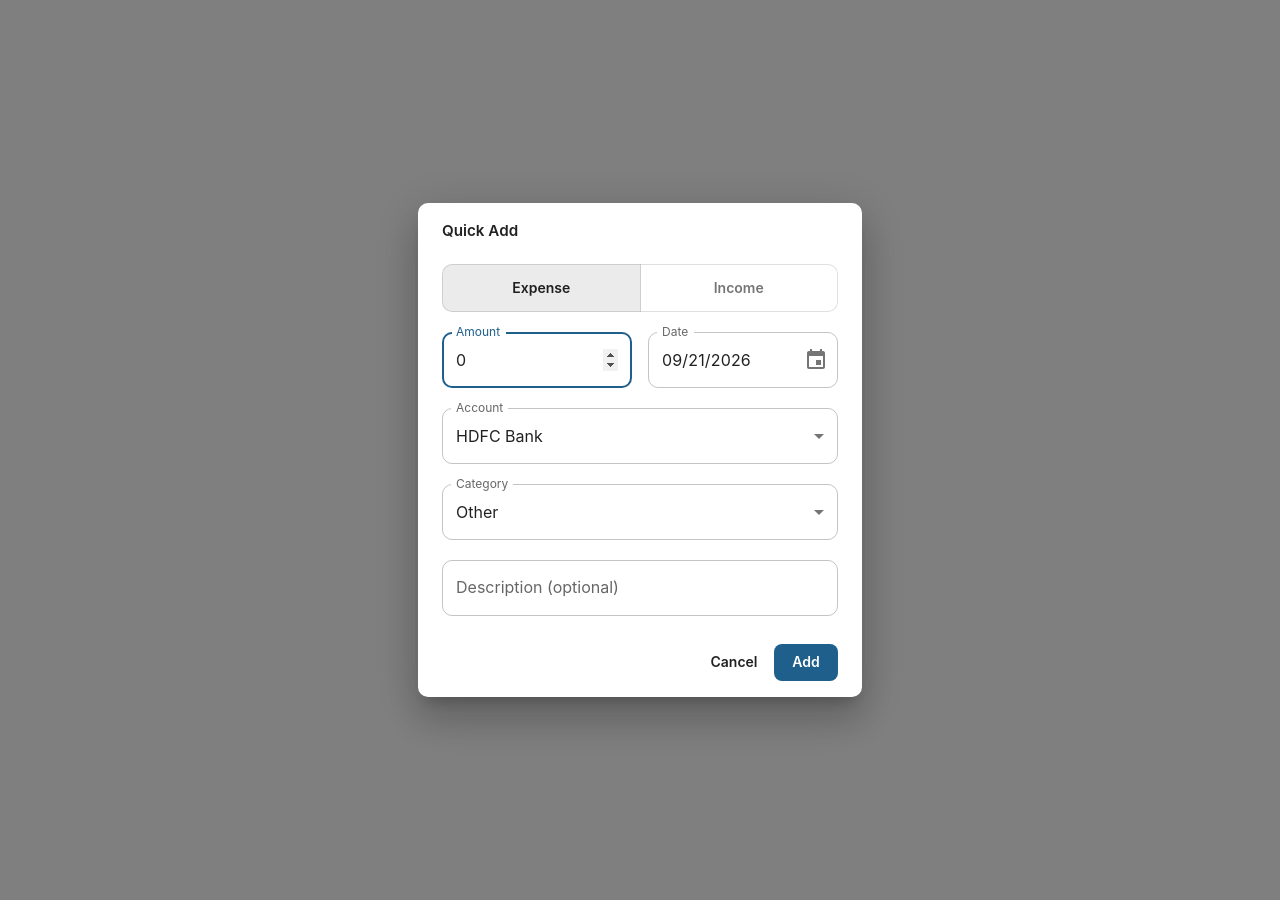
Test case: QuickAddTransactionDialog › shows the error message returned by a failed submit
This screenshot has width=1280, height=900.
Replace the text in the number field labelled "Amount" with "100". click: [537, 360]
box: x1=442 y1=332 x2=632 y2=388
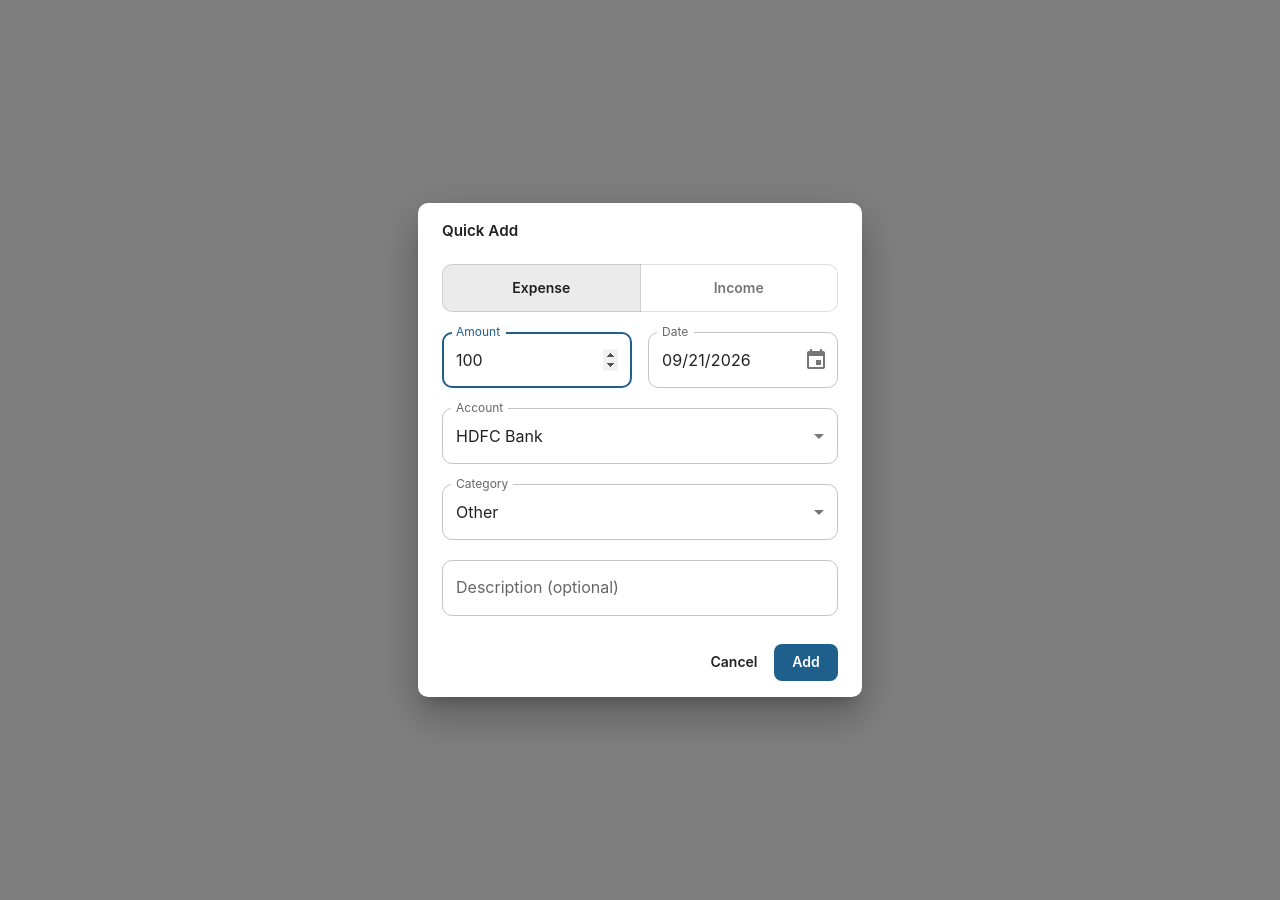
Click the button "Add". click: [806, 662]
box: x1=774 y1=644 x2=838 y2=681
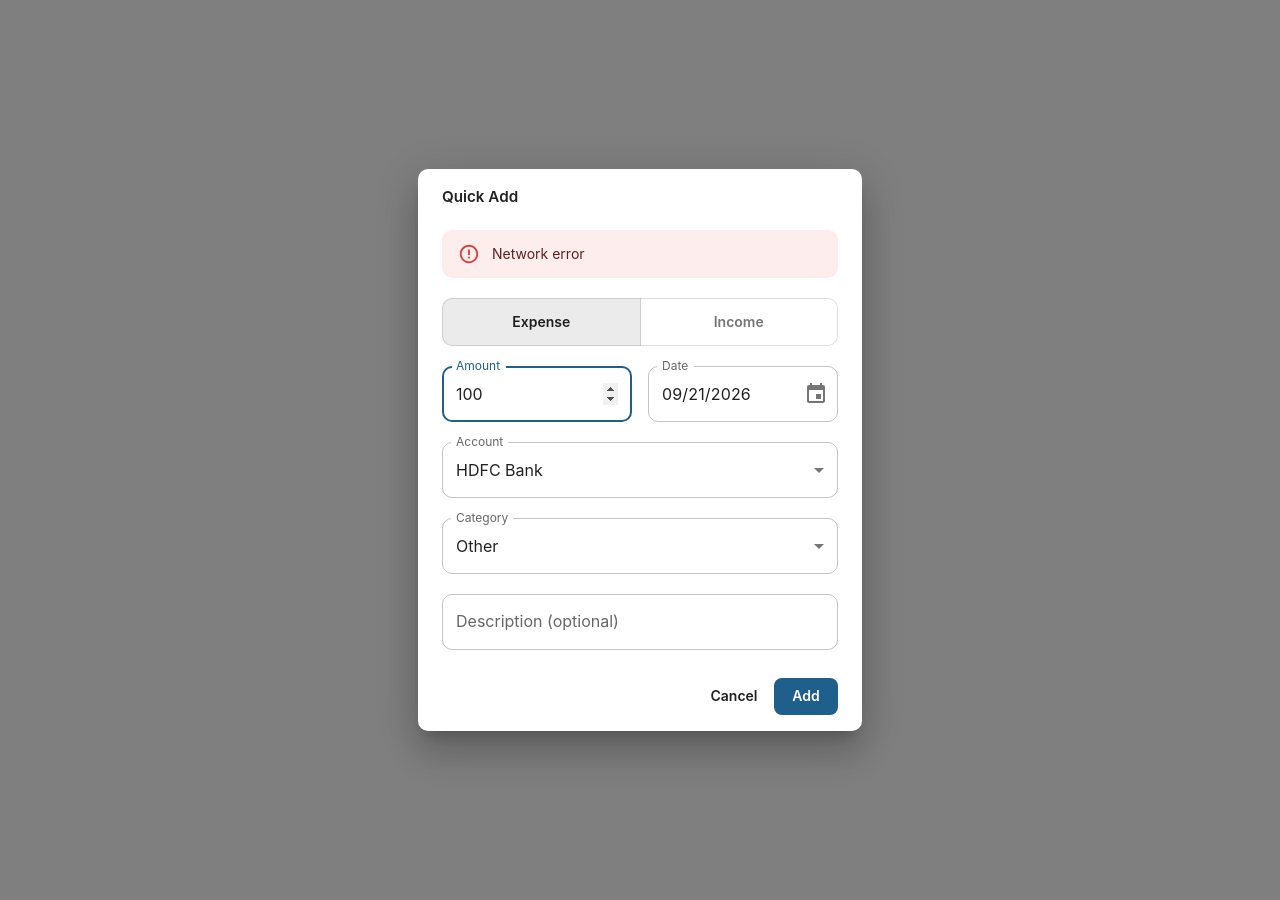
Check: the text "Network error" is shown, box x1=492 y1=245 x2=585 y2=262
